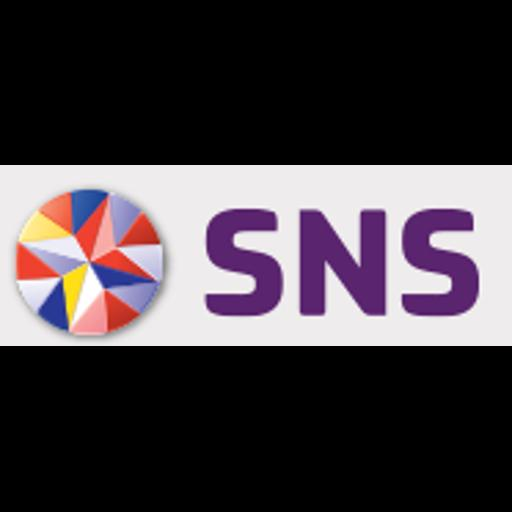SNS Bank N-V: (0, 165, 512, 346)
